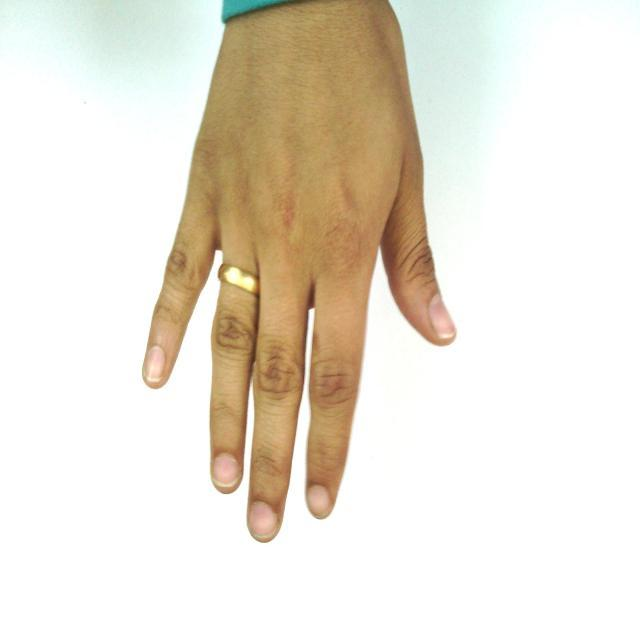Fingernail: (430, 295, 455, 339), (250, 503, 276, 539), (214, 455, 239, 488), (307, 486, 330, 517), (145, 347, 164, 382)
